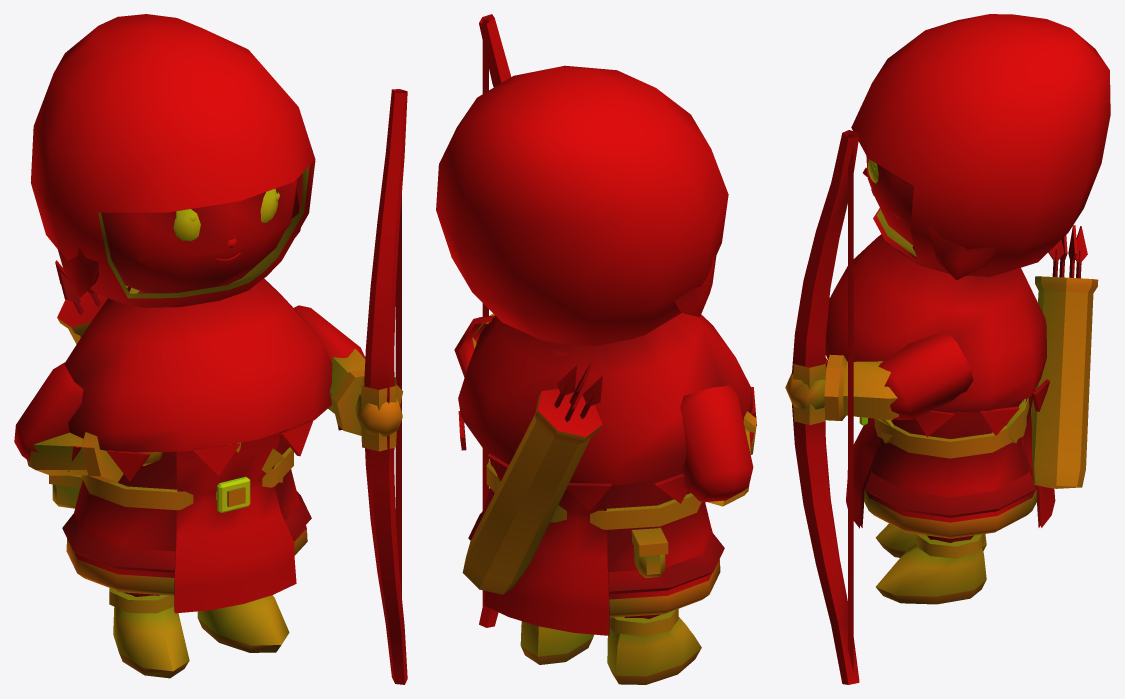
The model's file is Archer.glb.
The picture shows the model from 3 angles, left to right: view 1: azimuth 30°, elevation 25°; view 2: azimuth 150°, elevation 25°; view 3: azimuth 270°, elevation 25°; orthographic projection. The views are drawn at different scales.
Visible parts, largest first — view 1: Archer; view 2: Archer; view 3: Archer.
Boxes of the visible parts, bbox=[...] form: Archer: bbox=[14, 14, 407, 684]; Archer: bbox=[436, 14, 756, 684]; Archer: bbox=[785, 14, 1110, 684].
Size of the model in its own units: 0.493 by 0.9153 by 0.4623.
